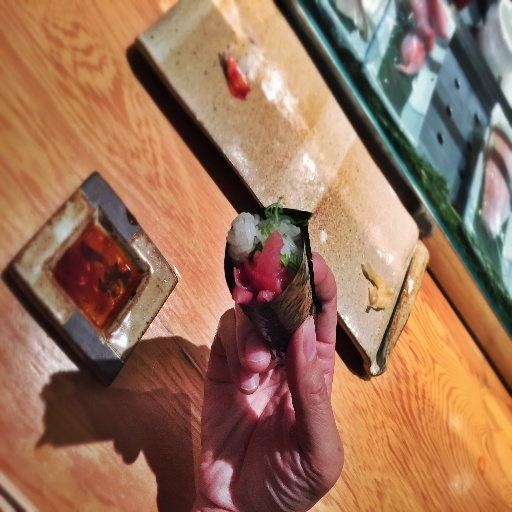hand: (201, 303, 341, 511)
